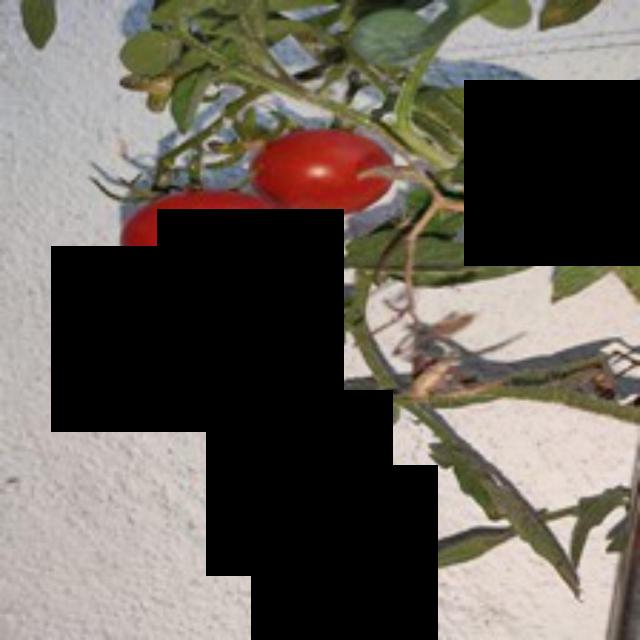tomato: (115, 183, 306, 299), (202, 432, 390, 543), (248, 130, 397, 224)
